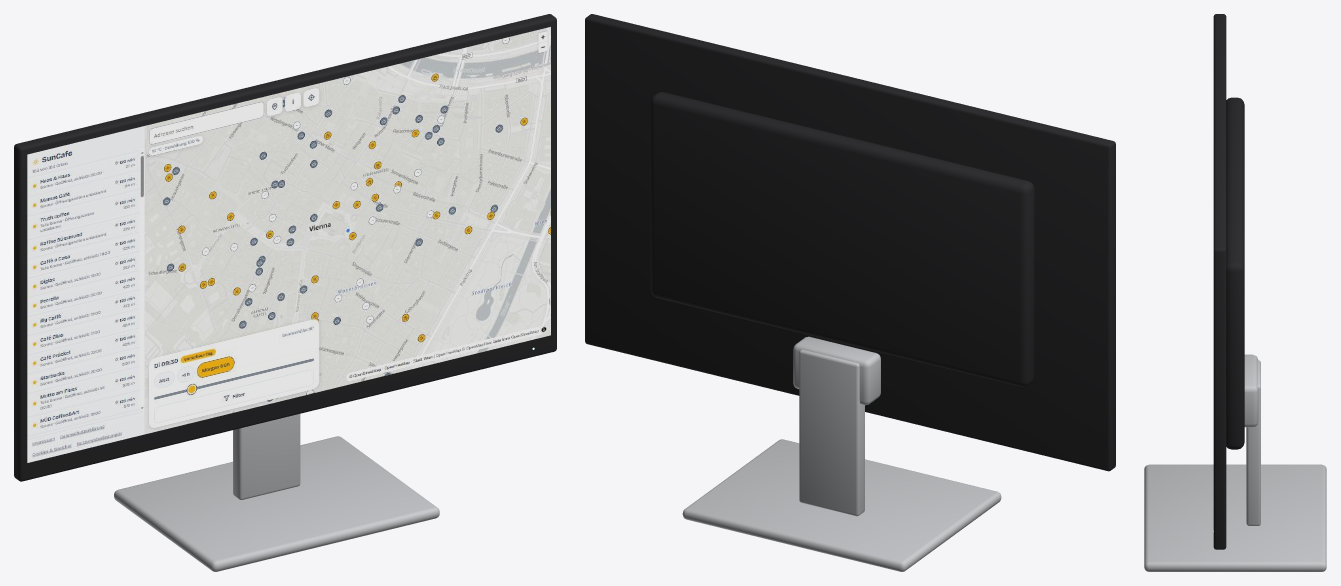
The model's file is suncafe_monitor.glb.
3 renders of one model, left to right at view 1: azimuth 30°, elevation 25°; view 2: azimuth 150°, elevation 25°; view 3: azimuth 270°, elevation 25°, orthographic. The views are drawn at different scales.
Parts seen in each view (by area): view 1: Screen, Monitor_body, Stand_foot, Stand_neck; view 2: Monitor_body, Monitor_back, Stand_foot, Stand_neck, Stand_hinge; view 3: Stand_foot, Monitor_body, Monitor_back, Stand_neck, Stand_hinge.
Boxes of the visible parts, <box> form: Screen: <box>27,27,550,462</box>; Monitor_body: <box>14,14,556,481</box>; Stand_foot: <box>114,436,439,571</box>; Stand_neck: <box>233,414,300,499</box>; Monitor_body: <box>585,14,1115,471</box>; Monitor_back: <box>650,92,1034,386</box>; Stand_foot: <box>682,439,1001,571</box>; Stand_neck: <box>799,349,864,516</box>; Stand_hinge: <box>793,336,880,405</box>; Stand_foot: <box>1144,464,1326,571</box>; Monitor_body: <box>1213,14,1226,549</box>; Monitor_back: <box>1226,97,1244,449</box>; Stand_neck: <box>1246,360,1260,525</box>; Stand_hinge: <box>1244,354,1258,427</box>.
Size of the model in its own units: 0.613 by 0.474 by 0.2.
4 materials, 1 textured.
